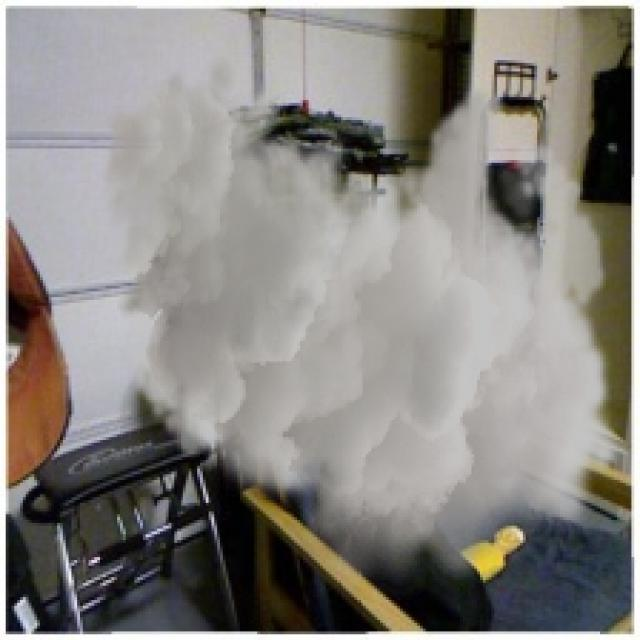Smoke: (100, 51, 623, 600)
